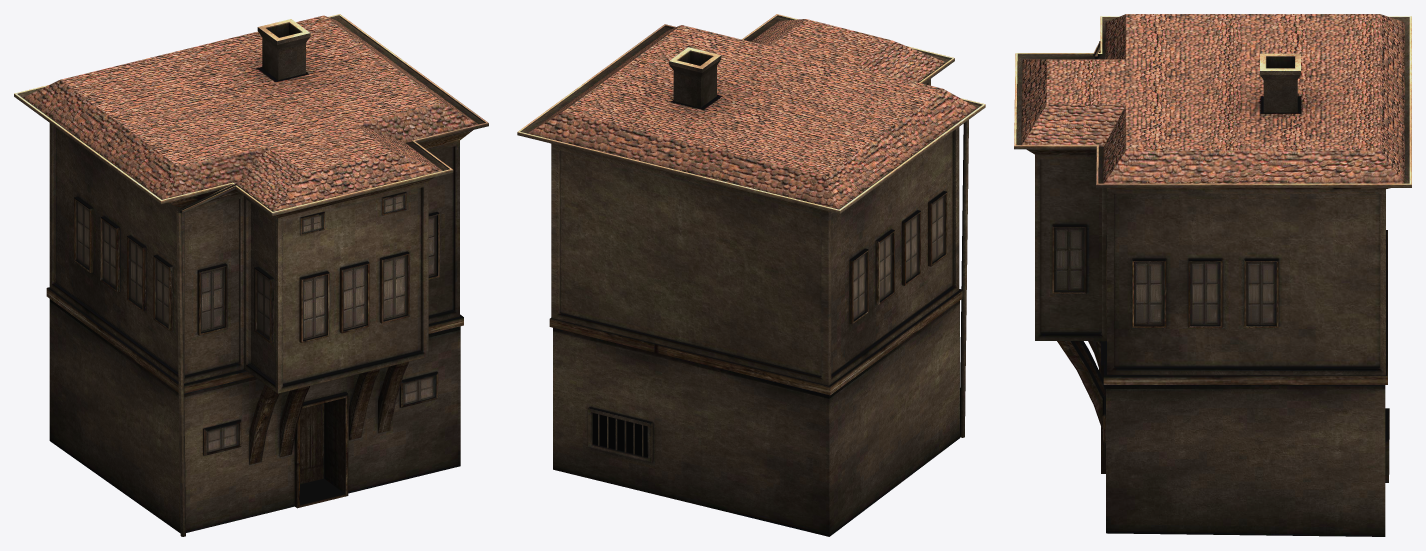
File: casa2A.glb
3 views of the same model, side by side, from view 1: azimuth 30°, elevation 25°; view 2: azimuth 150°, elevation 25°; view 3: azimuth 270°, elevation 25° (orthographic). The views are drawn at different scales.
Visible parts, largest first — view 1: city_house_2; view 2: city_house_2; view 3: city_house_2.
Boxes of the visible parts, left/top/right/bottom form: city_house_2: left=14, top=14, right=488, bottom=536; city_house_2: left=517, top=14, right=985, bottom=536; city_house_2: left=1014, top=14, right=1411, bottom=536.
Size of the model in its own units: 4.02 by 4.74 by 4.01.
1 material, 1 textured.
